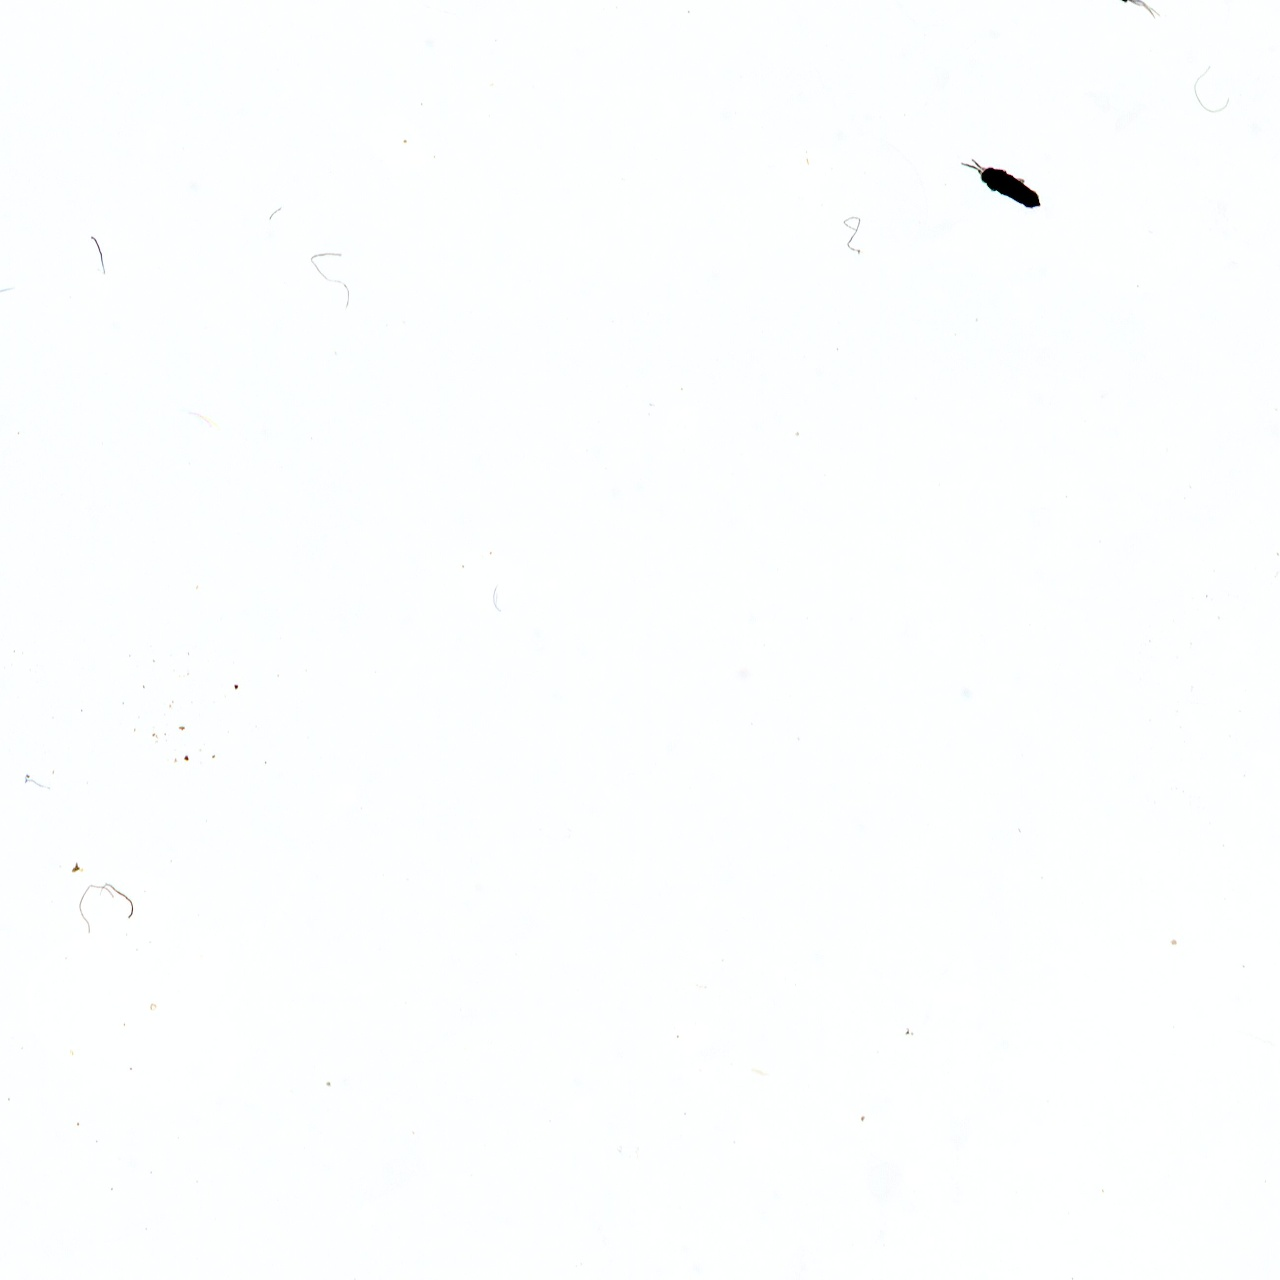arthropod: (945, 138, 1082, 237), (1075, 0, 1170, 29)
